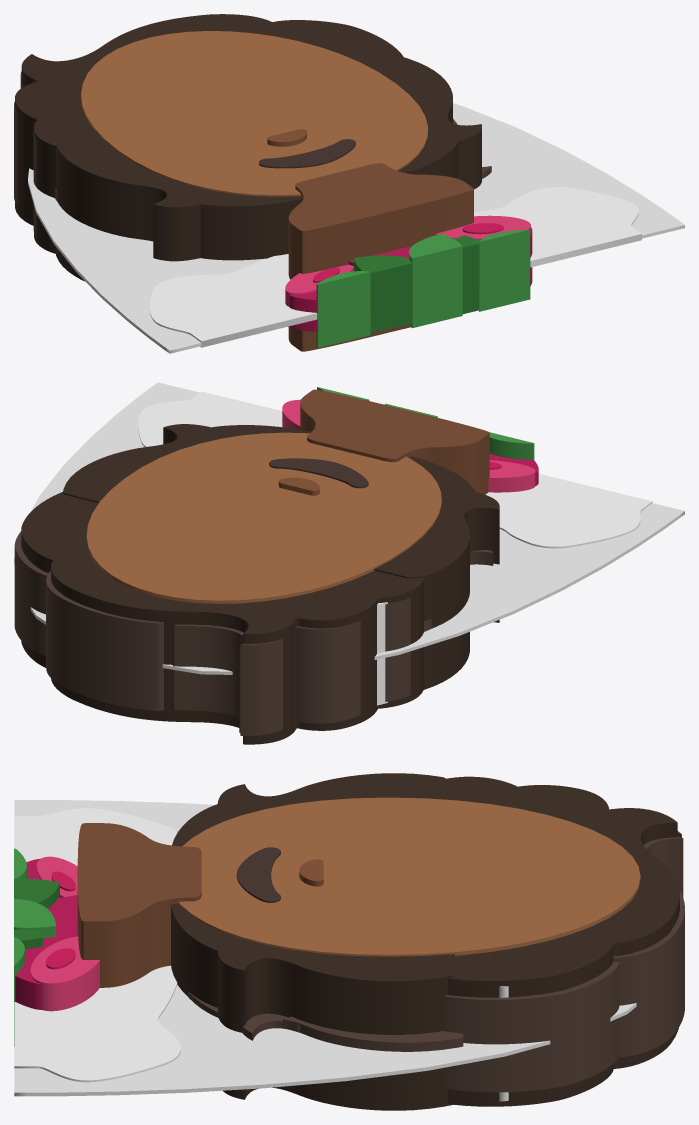
Rendered from emoji_u1f470_1f3fe.glb.
3 renders of one model, top to bottom at view 1: azimuth 30°, elevation 25°; view 2: azimuth 150°, elevation 25°; view 3: azimuth 270°, elevation 25°, orthographic. The views are drawn at different scales.
Visible parts, largest first — view 1: emoji_u1f470_1f3fe; view 2: emoji_u1f470_1f3fe; view 3: emoji_u1f470_1f3fe.
Part boxes in pixels (left/top/right/bottom): emoji_u1f470_1f3fe: left=14, top=14, right=684, bottom=353; emoji_u1f470_1f3fe: left=14, top=382, right=684, bottom=744; emoji_u1f470_1f3fe: left=14, top=773, right=684, bottom=1110.
Bounding box in the file's own units: 0.034 × 0.0078 × 0.0329.
